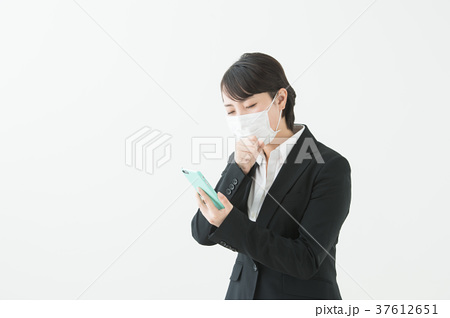mask: (218, 109, 281, 146)
